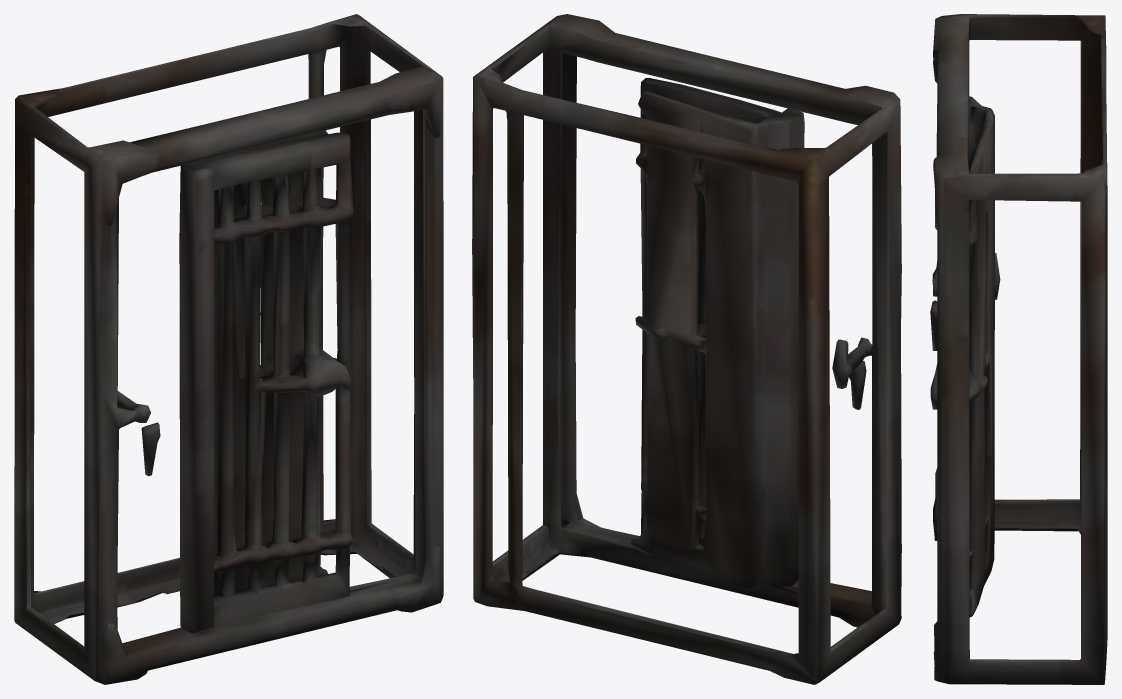
The model's file is weathered-iron-cell-door-v001.glb.
3 views of the same model, side by side, from view 1: azimuth 30°, elevation 25°; view 2: azimuth 150°, elevation 25°; view 3: azimuth 270°, elevation 25° (orthographic). The views are drawn at different scales.
Parts seen in each view (by area): view 1: weathered-iron-cell-door; view 2: weathered-iron-cell-door; view 3: weathered-iron-cell-door.
Part boxes in pixels (x1=…): weathered-iron-cell-door: x1=14, y1=14, x2=443, y2=684; weathered-iron-cell-door: x1=472, y1=14, x2=901, y2=684; weathered-iron-cell-door: x1=930, y1=14, x2=1107, y2=684.
Bounding box in the file's own units: 1.44 × 2.1 × 0.6578.
1 material, 1 textured.
